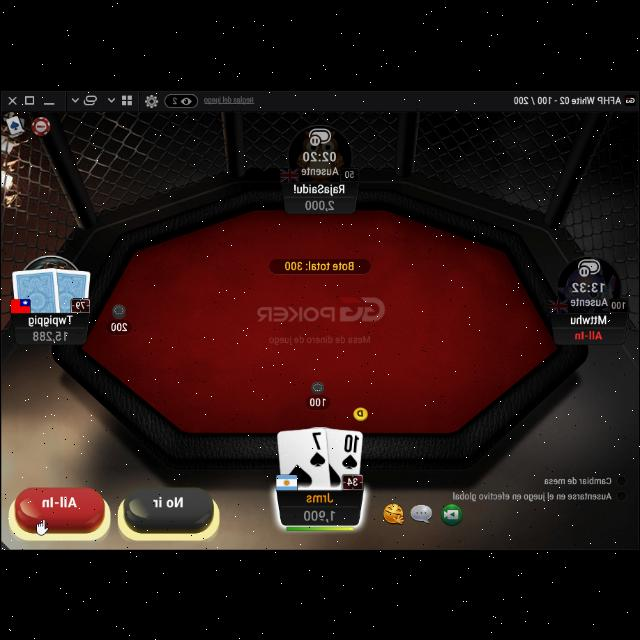7s: (307, 428, 327, 466)
Ts: (340, 429, 360, 468)
all_in_symbol: (574, 326, 604, 339)
bet_text: (109, 320, 129, 332), (308, 396, 328, 406)
card_back: (11, 263, 62, 315), (48, 264, 92, 312)
dealer: (350, 402, 370, 422)
pot_text: (282, 258, 356, 270)
stack_text: (301, 505, 337, 523), (31, 328, 67, 342), (304, 197, 336, 211)
